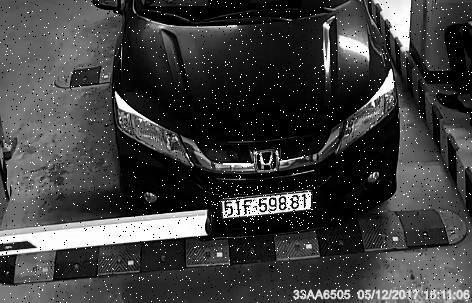License-plate: (212, 188, 318, 227)
